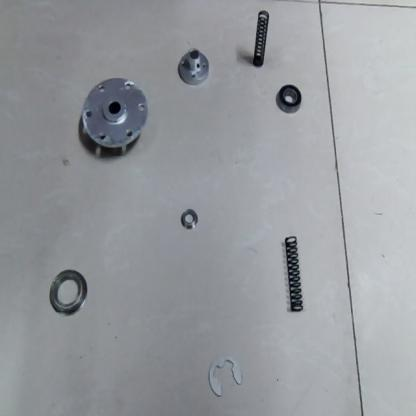FOD: (78, 74, 152, 155), (45, 264, 92, 322), (282, 231, 308, 315), (206, 353, 245, 400), (174, 45, 214, 87), (248, 7, 270, 69), (277, 80, 303, 118), (178, 204, 202, 233)
